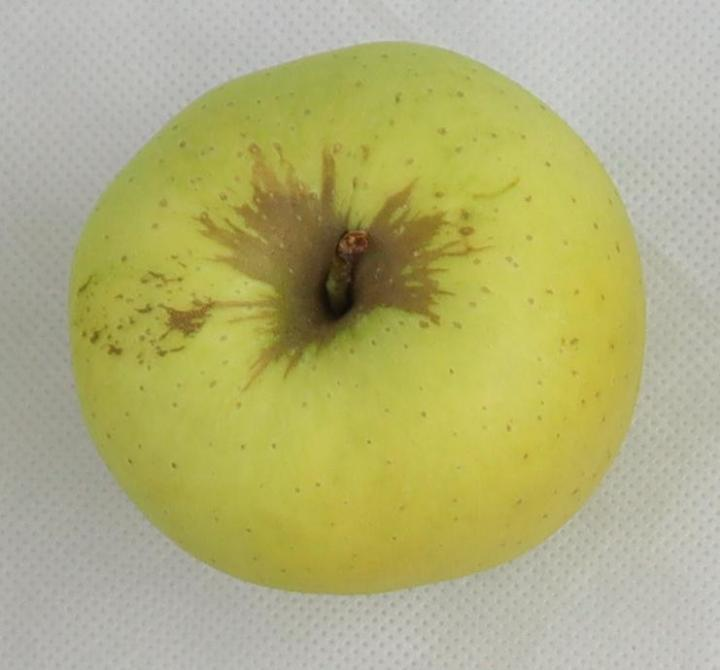apple: (69, 43, 644, 592)
bruise_discoloration: (158, 146, 479, 390)
